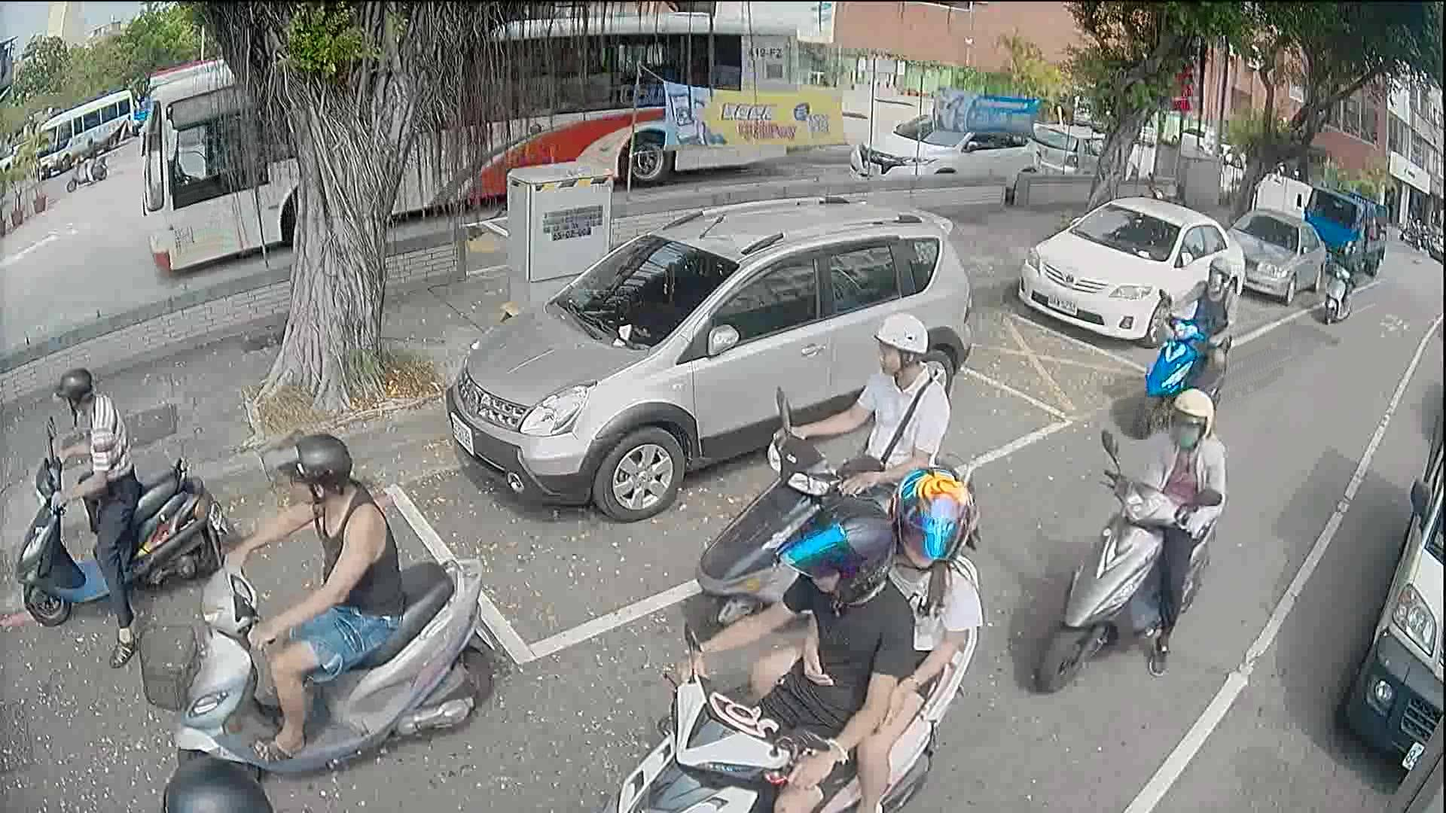person: (746, 452, 987, 812), (655, 494, 917, 812), (214, 423, 403, 769), (770, 299, 949, 501), (1130, 376, 1228, 676), (47, 359, 140, 654), (1149, 254, 1237, 403), (159, 748, 274, 812), (72, 132, 97, 187), (1337, 240, 1359, 269)
